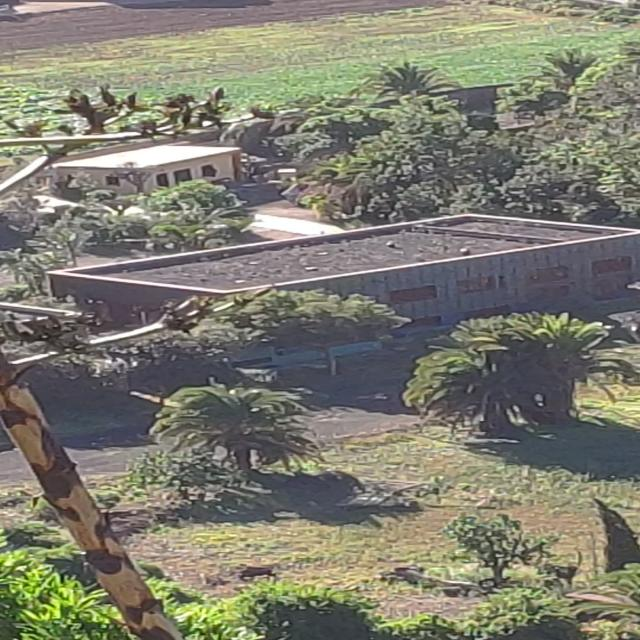Palm-Trees: (162, 382, 305, 476)
